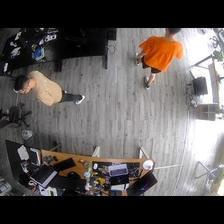normal: (135, 27, 183, 88), (13, 69, 86, 107)
